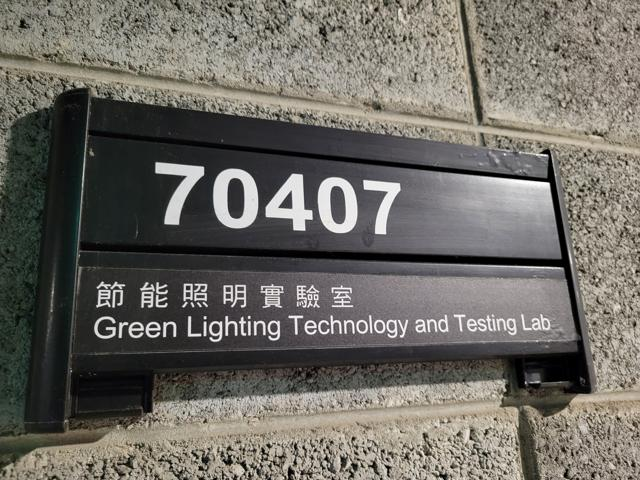doorplate: (18, 77, 605, 439)
